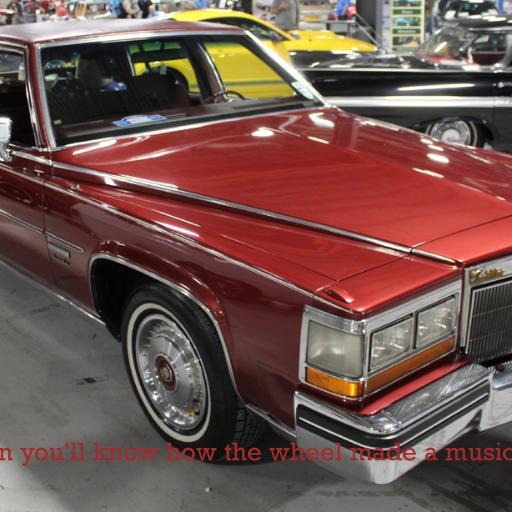Rockwell: (0, 442, 512, 466)
